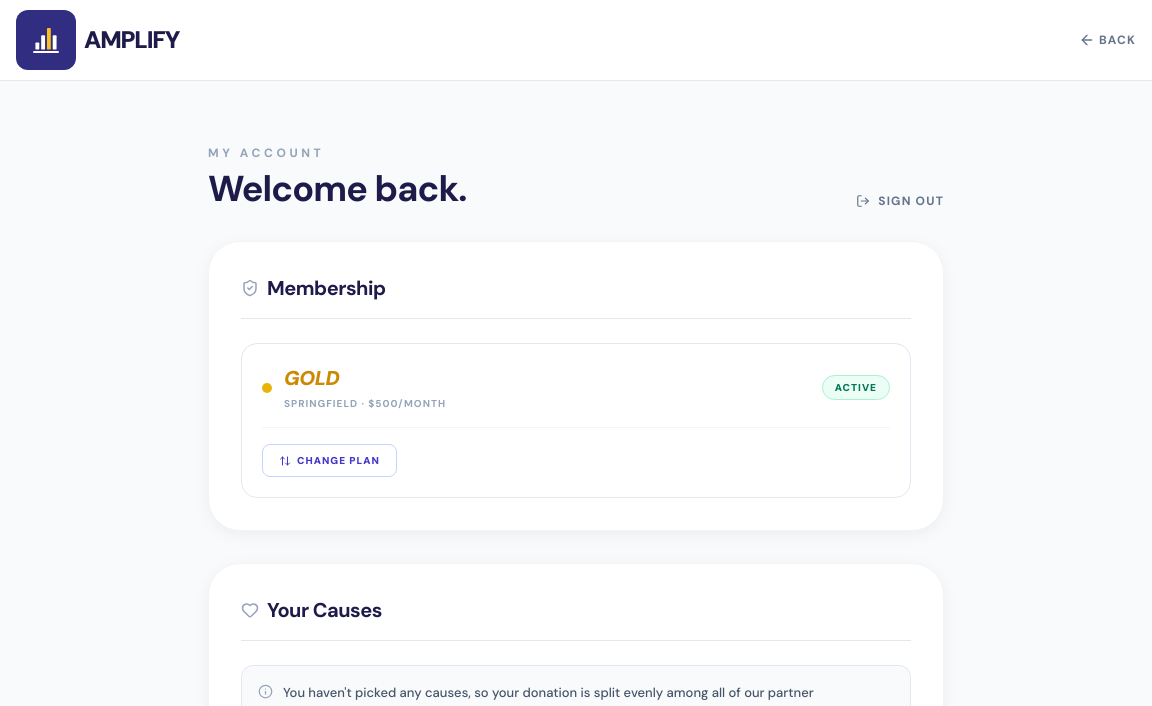
AccountPage plan changes › treats a { success: false } RPC payload as a failure and shows its message
Step 1. Click the button "Change plan" → point(329, 460), box 262,444 -> 397,477
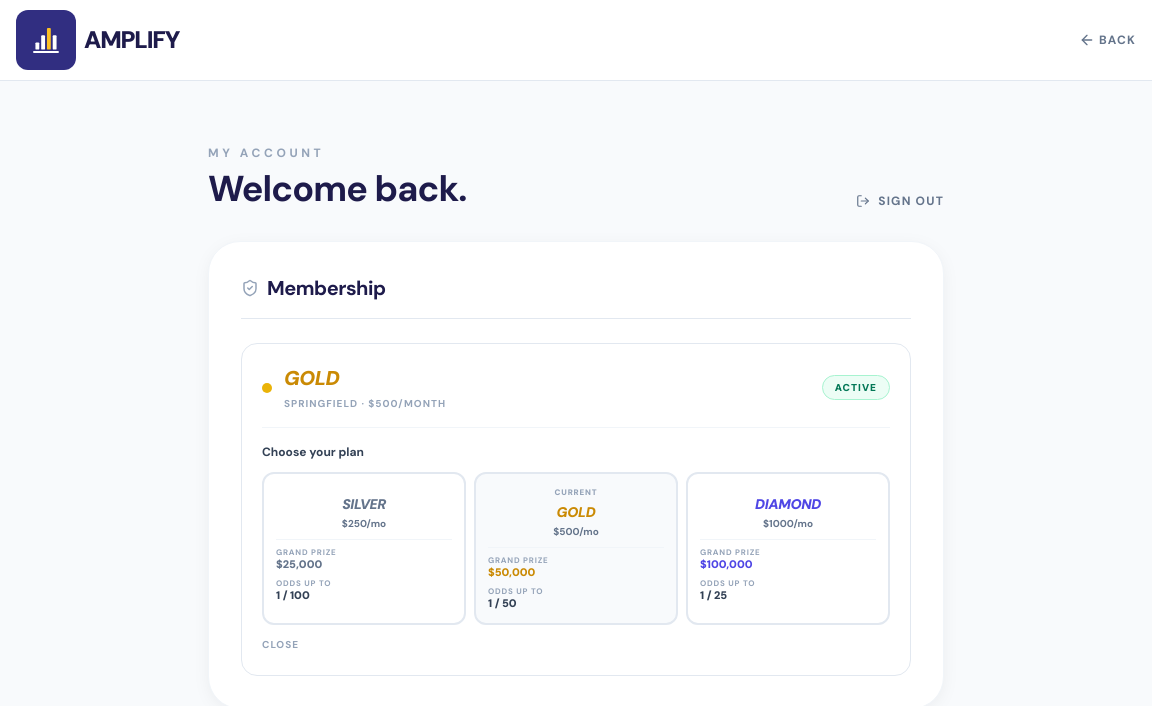
Step 2. Click the text "diamond" → point(788, 504), box 755,495 -> 821,513
(page scrolled)
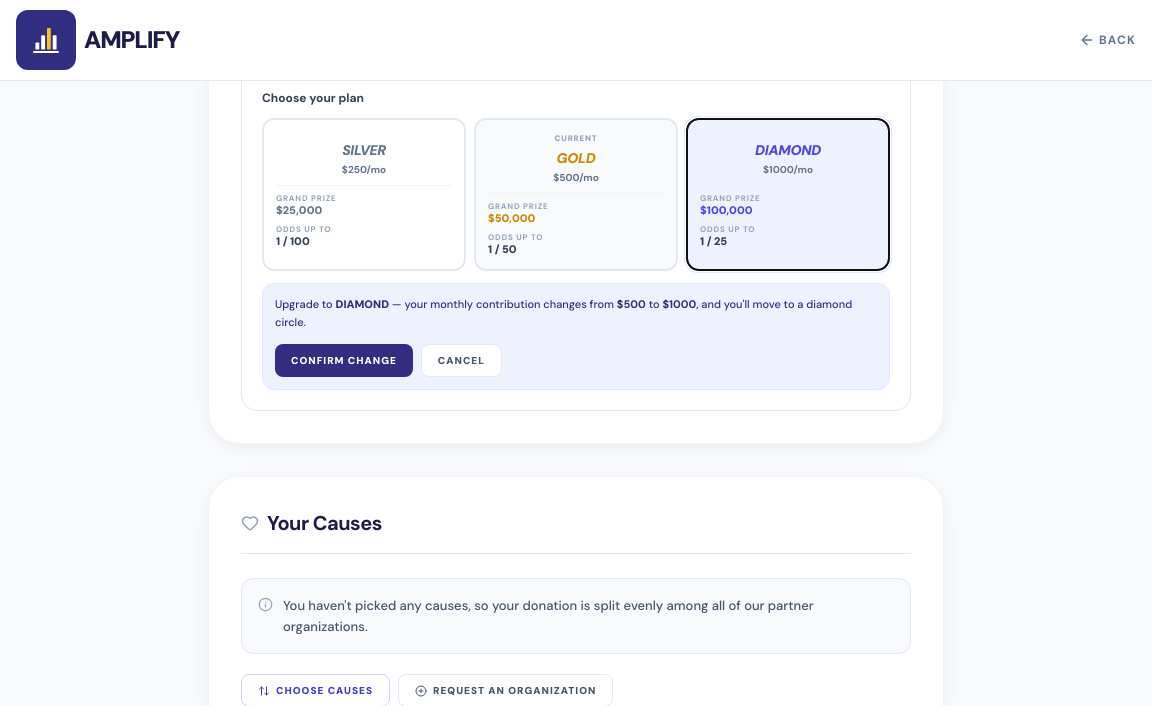
Step 3. Click the button "Confirm Change" → point(344, 360), box 275,344 -> 413,377
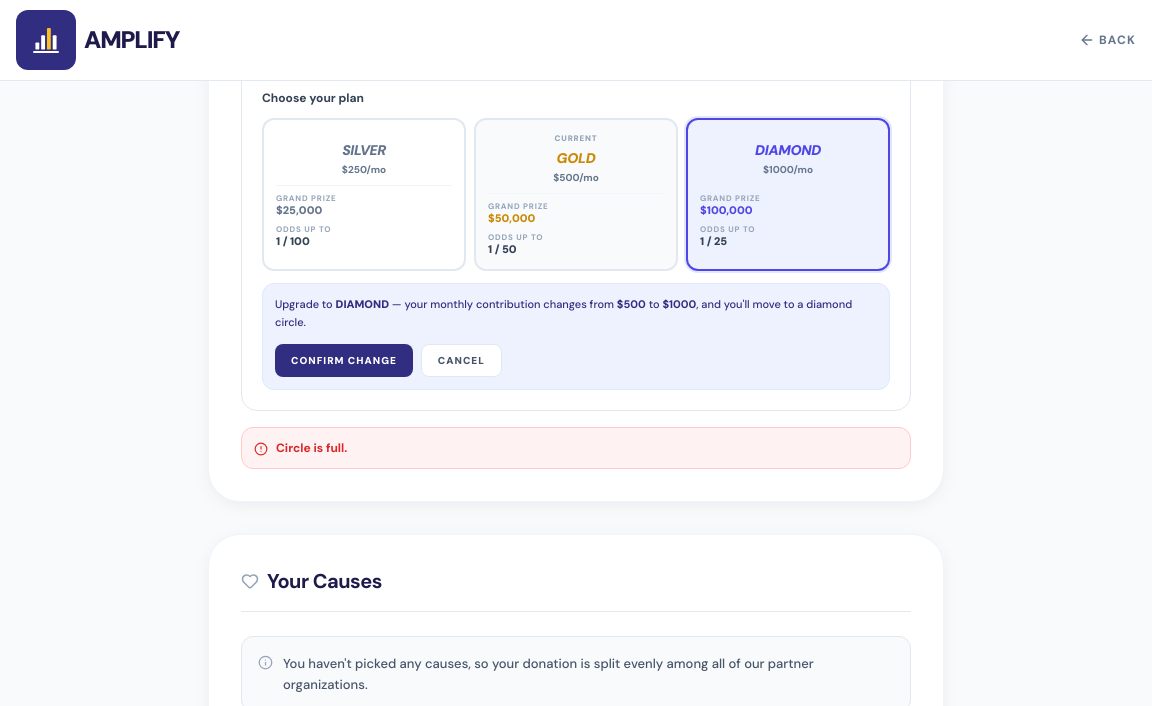
Result: the text "Circle is full." is shown at 276,440 -> 347,456
